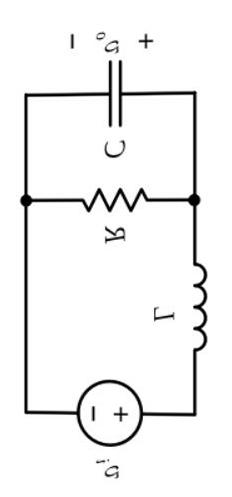resistor: (67, 181, 159, 219)
